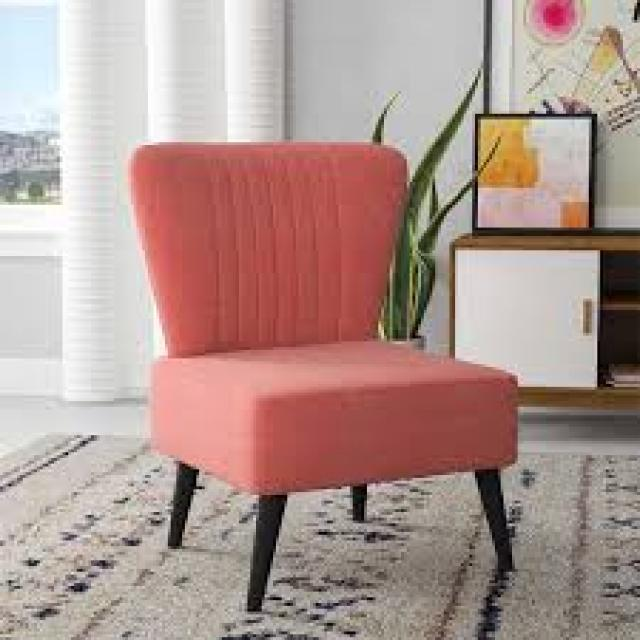chair: (124, 141, 528, 615)
